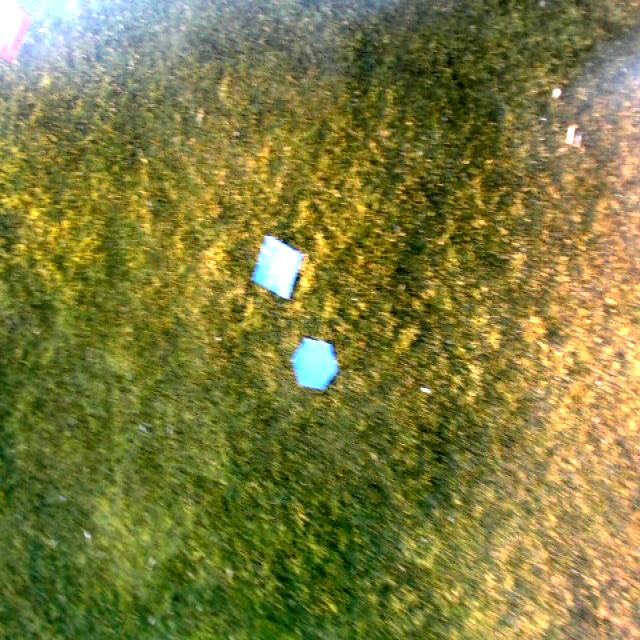blue_hexagon: (291, 338, 339, 392)
blue_square: (251, 236, 303, 300)
